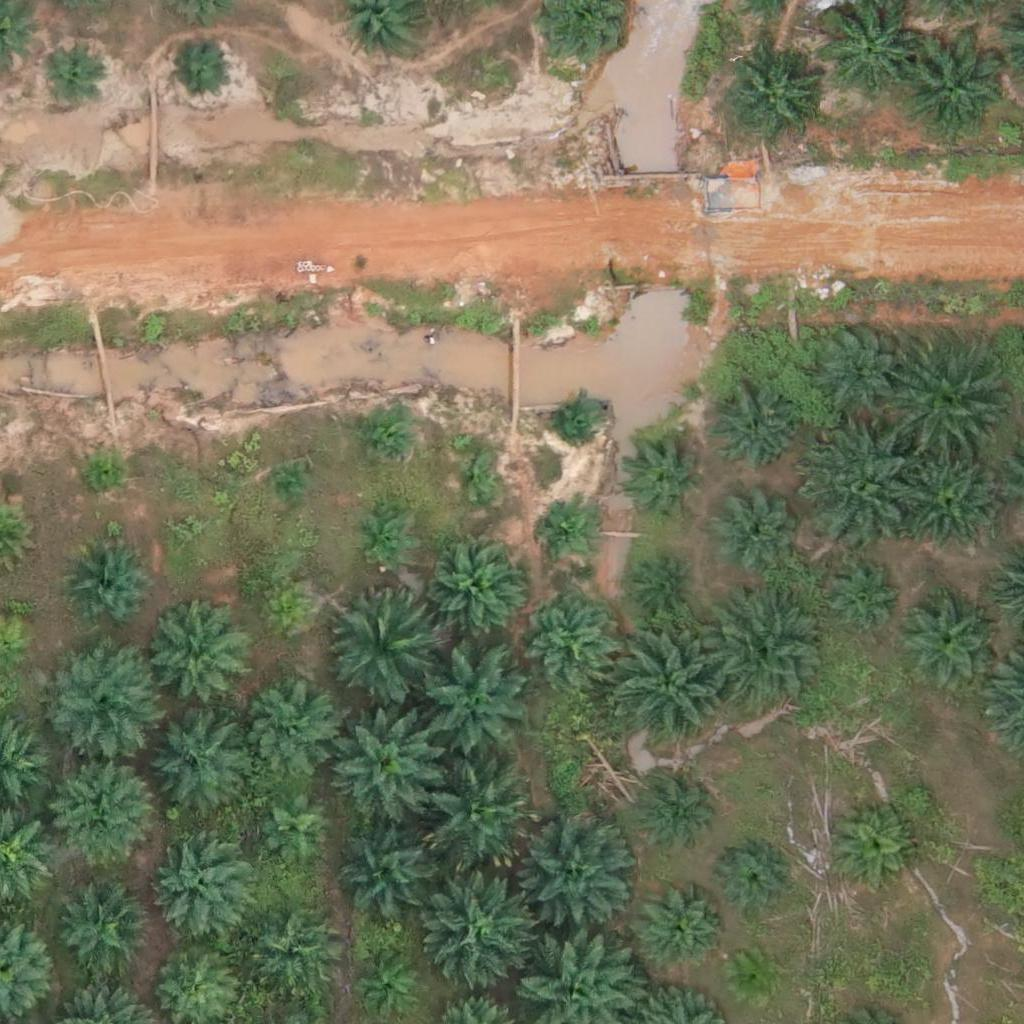Kelapa_Sawit: (710, 600, 823, 714), (615, 623, 728, 736), (414, 647, 527, 760), (427, 880, 540, 993), (323, 587, 436, 700), (328, 719, 441, 832), (896, 34, 1009, 147), (516, 813, 628, 927), (44, 642, 156, 756), (892, 350, 1004, 463), (802, 429, 914, 542), (425, 764, 537, 877), (898, 448, 998, 549), (804, 315, 904, 416), (334, 826, 434, 927), (151, 610, 251, 711), (49, 767, 149, 868), (724, 46, 824, 147), (899, 590, 999, 690), (430, 539, 530, 639), (243, 905, 343, 1005), (245, 680, 345, 780), (152, 717, 252, 817), (145, 837, 245, 937), (64, 539, 152, 627), (57, 886, 145, 974), (710, 386, 797, 475), (817, 556, 904, 644), (710, 485, 797, 573), (526, 589, 613, 677), (620, 433, 707, 521), (830, 806, 917, 894), (647, 892, 722, 968), (714, 844, 789, 920), (638, 770, 713, 845), (257, 787, 332, 862), (357, 953, 420, 1016), (37, 42, 100, 105), (170, 38, 232, 101), (542, 502, 592, 553), (725, 952, 775, 1002), (549, 392, 599, 442), (640, 561, 690, 611), (452, 455, 502, 505), (360, 409, 410, 459), (355, 512, 405, 562), (269, 470, 307, 508), (83, 454, 120, 492), (259, 589, 296, 626), (172, 517, 197, 543)
